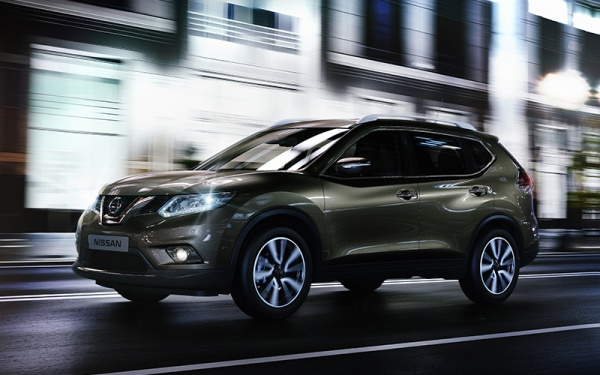pickup: (71, 114, 542, 324)
